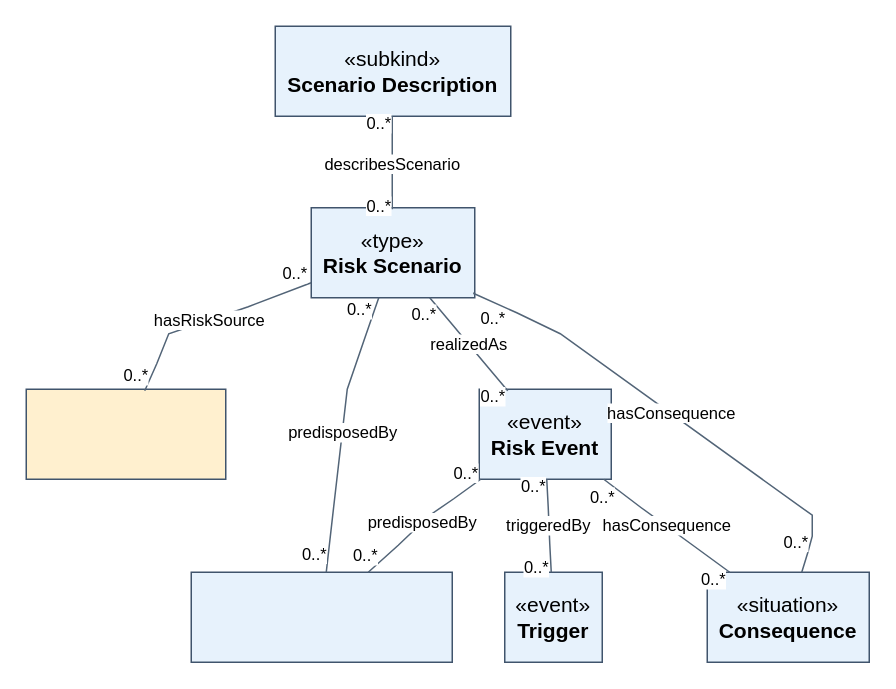
The diagram is 896 pixels wide and 689 high, and some of its shapes have lost their labels. The centre of each missing label's shape, as x and y in pixels:
PATTERN BOUNDARY Risk Source: pixel 125 433
«situation» Predisposing Condition: pixel 321 616
